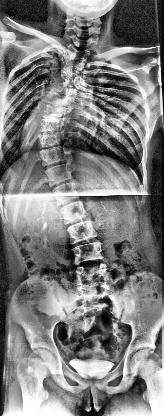Vertebrae: (66, 218, 98, 246), (76, 261, 112, 285), (75, 283, 115, 304), (73, 240, 106, 265), (60, 198, 91, 222), (46, 162, 74, 188), (51, 182, 81, 204), (40, 102, 68, 124), (42, 147, 72, 167), (35, 117, 67, 135), (38, 132, 66, 152), (49, 80, 79, 96), (46, 91, 74, 107), (56, 69, 84, 85), (62, 58, 88, 72)
